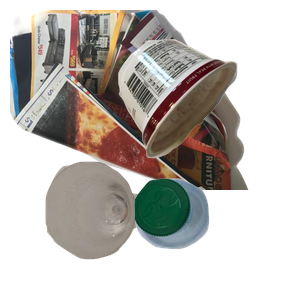glass: (43, 159, 187, 300)
paper: (10, 10, 250, 190)
plastic: (132, 176, 300, 300)
trash: (116, 36, 300, 187)
